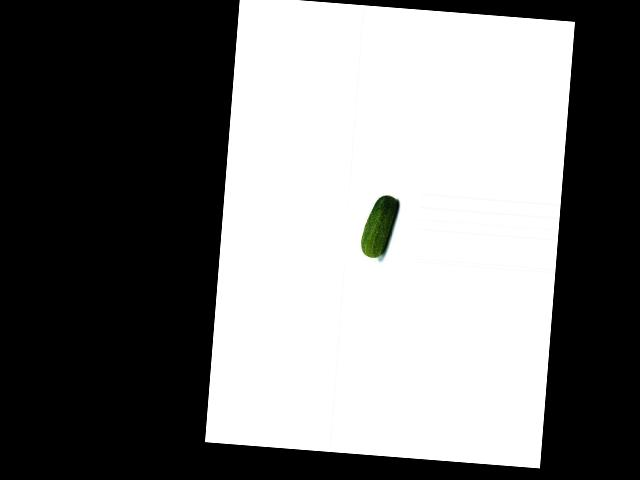cucumber: (360, 193, 398, 259)
